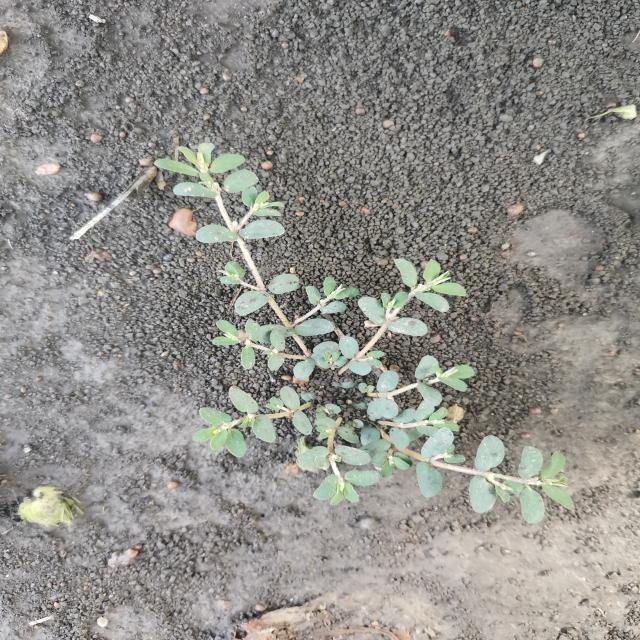SpottedSpurge: (150, 140, 582, 526)
